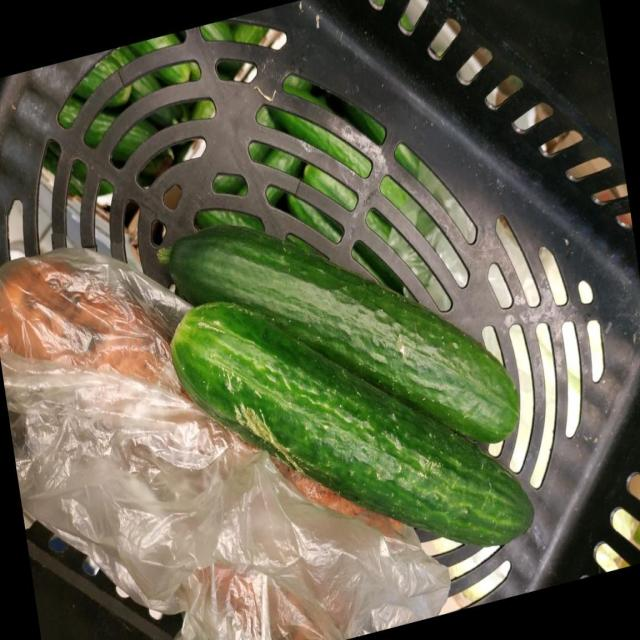Carrot: (0, 255, 185, 395), (276, 463, 376, 524)
Cucumber: (170, 301, 532, 545), (159, 224, 518, 442)
